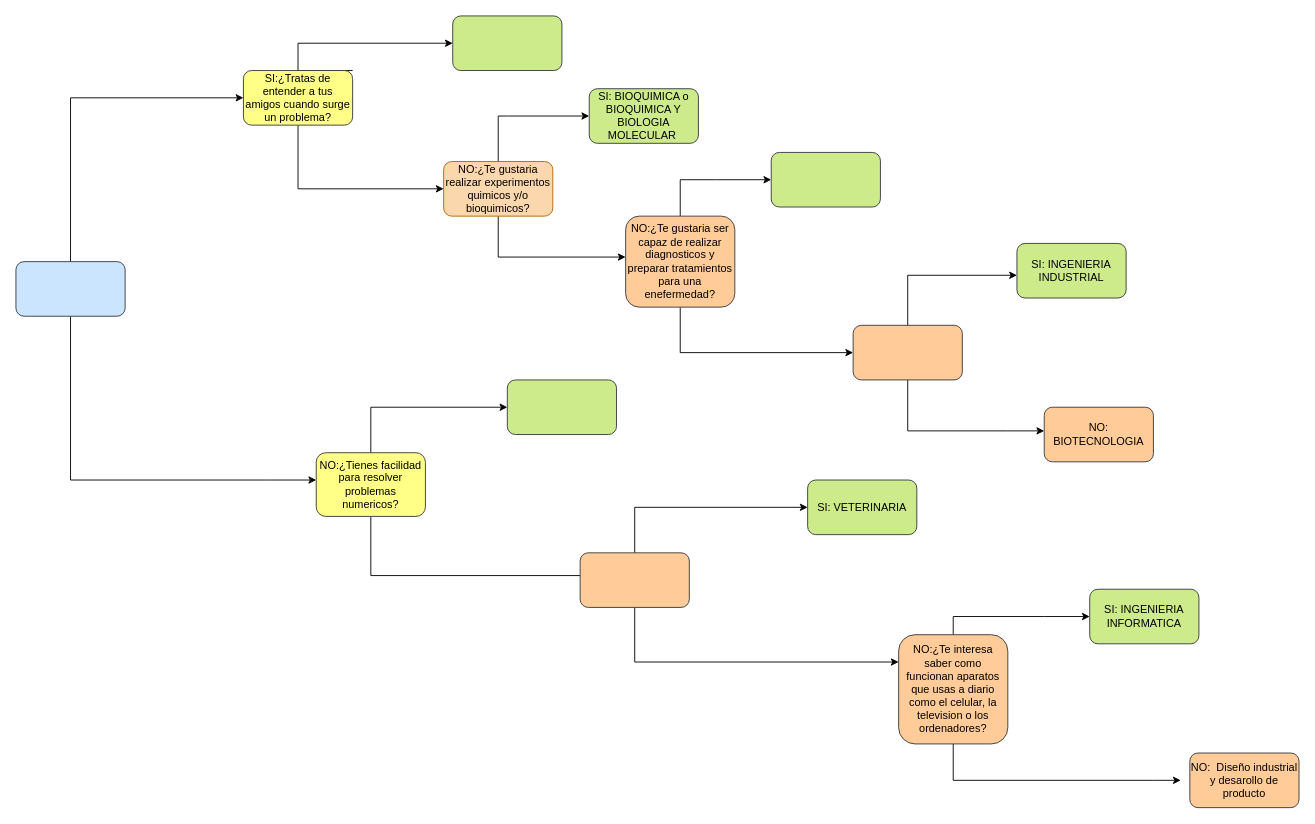
Image size: 1315x824. Some labels were removed from this diagram. The shapes that lost their labels are listed below. From the top down, each one's centre as x and y in pixels, then its label:
point 507,43: SI:PSICOLOGIA
point 825,179: SI: MEDICINA
point 70,288: ¿Consideras que te gusta ayudar a las personas?
point 907,352: NO:¿Te ves siendo capaz de de estudiar el funcionamiento de maquinas nuevas?
point 561,407: SI: MATEMATICAS
point 634,579: NO¿Consideras que tienes una buena relacion con los animales?
